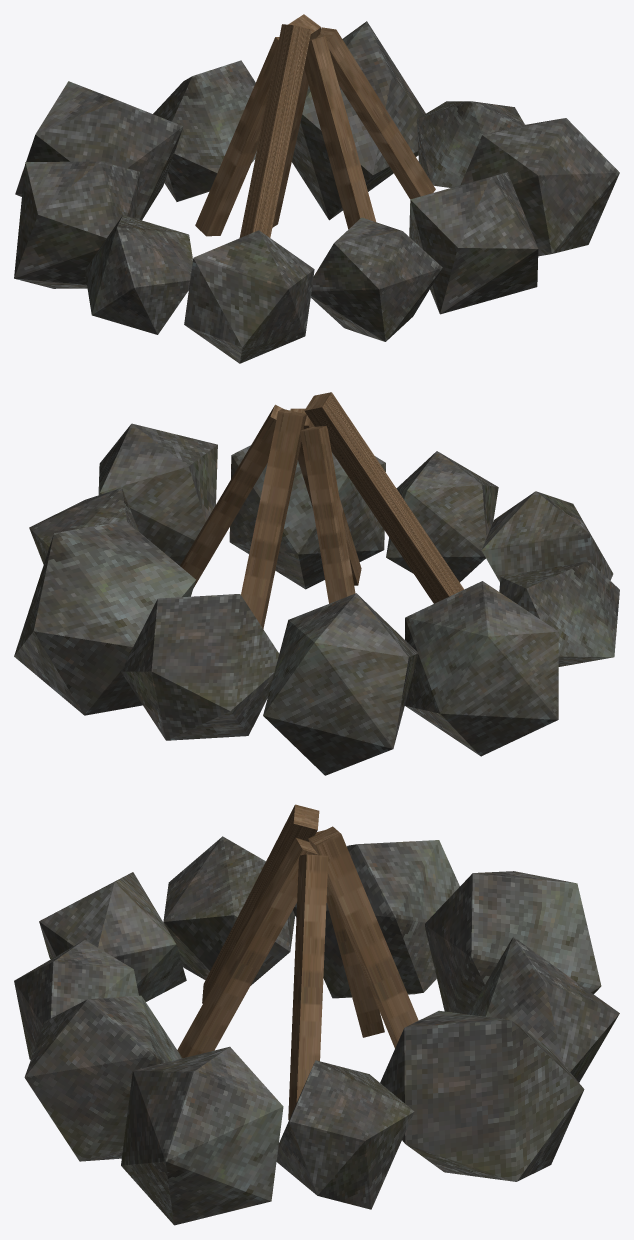
Rendered from campfire.fbx.
3 views of the same model, one above another, from view 1: azimuth 30°, elevation 25°; view 2: azimuth 150°, elevation 25°; view 3: azimuth 270°, elevation 25° (orthographic). The views are drawn at different scales.
Visible parts, largest first — view 1: Icosphere.006, Icosphere.003, Icosphere.007, Icosphere, Icosphere.005, Icosphere.001, Icosphere.004, Icosphere.009, Icosphere.010, Cube, Icosphere.008, Cube.001 (+3 smaller); view 2: Icosphere.009, Icosphere, Icosphere.001, Icosphere.010, Icosphere.007, Icosphere.004, Cube, Icosphere.005, Icosphere.006, Icosphere.003, Cube.002, Cube.003 (+3 smaller); view 3: Icosphere.009, Icosphere.007, Icosphere.006, Icosphere.001, Icosphere.008, Icosphere, Icosphere.010, Icosphere.003, Icosphere.004, Cube.001, Cube.004, Cube.002 (+3 smaller).
Part boxes in pixels (x1,y1,x2,y2): Icosphere.006: (409, 172, 538, 314); Icosphere.003: (184, 230, 314, 363); Icosphere.007: (460, 118, 619, 256); Icosphere: (14, 161, 139, 288); Icosphere.005: (310, 217, 442, 341); Icosphere.001: (15, 81, 183, 220); Icosphere.004: (84, 215, 192, 334); Icosphere.009: (292, 21, 425, 220); Icosphere.010: (153, 60, 256, 201); Cube: (239, 24, 311, 237); Icosphere.008: (417, 101, 524, 187); Cube.001: (304, 36, 375, 229); Icosphere.009: (14, 520, 195, 715); Icosphere: (405, 581, 558, 756); Icosphere.001: (263, 593, 418, 775); Icosphere.010: (121, 594, 279, 740); Icosphere.007: (98, 423, 217, 565); Icosphere.004: (499, 561, 619, 666); Cube: (304, 392, 463, 603); Icosphere.005: (386, 451, 498, 582); Icosphere.006: (229, 445, 385, 589); Icosphere.003: (481, 491, 613, 581); Cube.002: (241, 409, 306, 628); Cube.003: (300, 426, 355, 603); Icosphere.009: (380, 1010, 584, 1181); Icosphere.007: (121, 1046, 283, 1225); Icosphere.006: (24, 995, 182, 1161); Icosphere.001: (425, 871, 601, 1014); Icosphere.008: (276, 1060, 414, 1209); Icosphere: (293, 840, 459, 998); Icosphere.010: (467, 937, 619, 1082); Icosphere.003: (39, 872, 186, 1001); Icosphere.004: (163, 836, 295, 985); Cube.001: (177, 838, 318, 1058); Cube.004: (288, 854, 328, 1120); Cube.002: (308, 826, 418, 1048).
Bounding box in the file's own units: 633 × 728 × 359.
2 materials, 2 textured.
